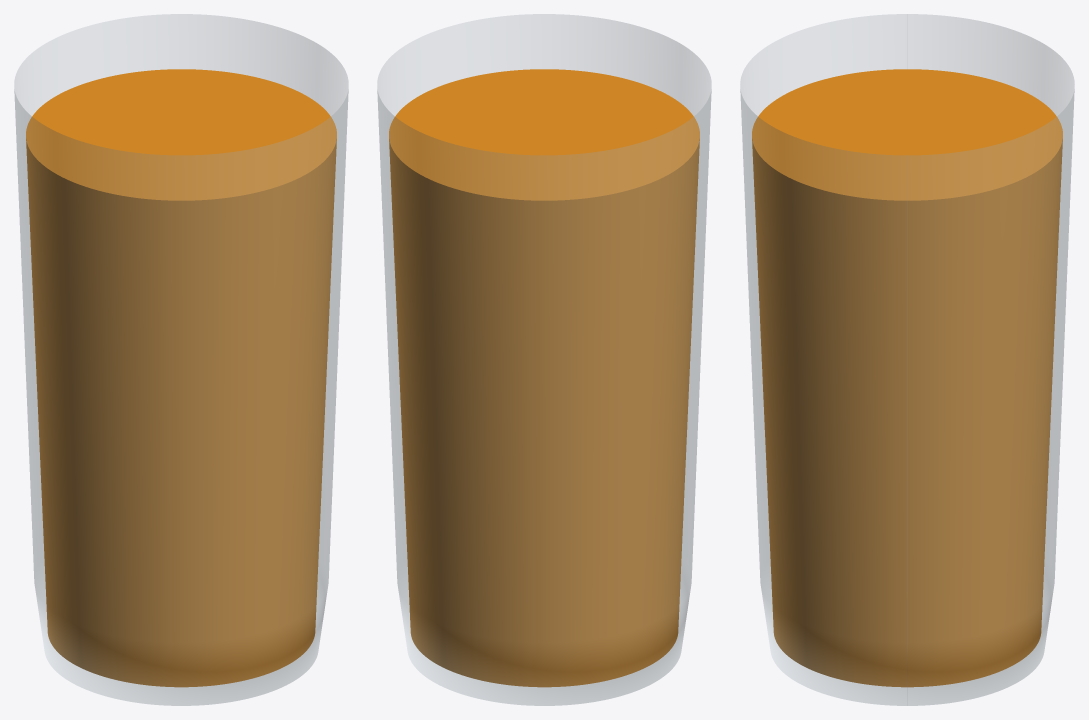
The model's file is bebida-3-hero.glb.
3 views of the same model, side by side, from view 1: azimuth 30°, elevation 25°; view 2: azimuth 150°, elevation 25°; view 3: azimuth 270°, elevation 25° (orthographic).
Bounding box in the file's own units: 0.07 × 0.13 × 0.07.
